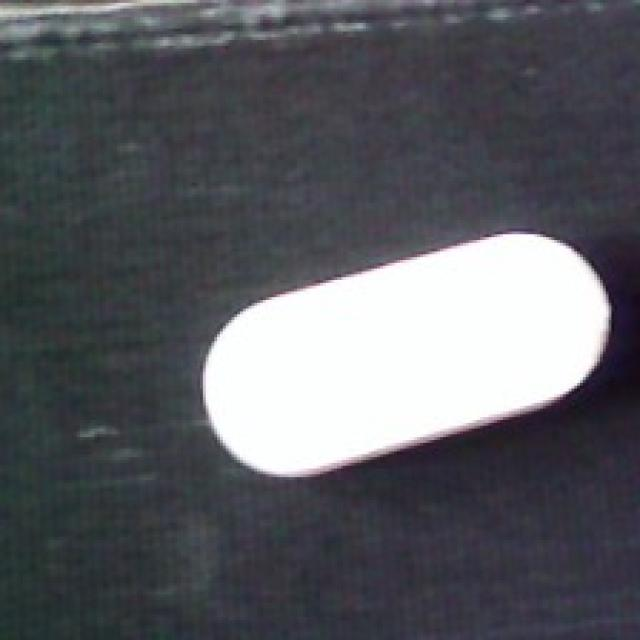no-defect: (195, 227, 614, 481)
